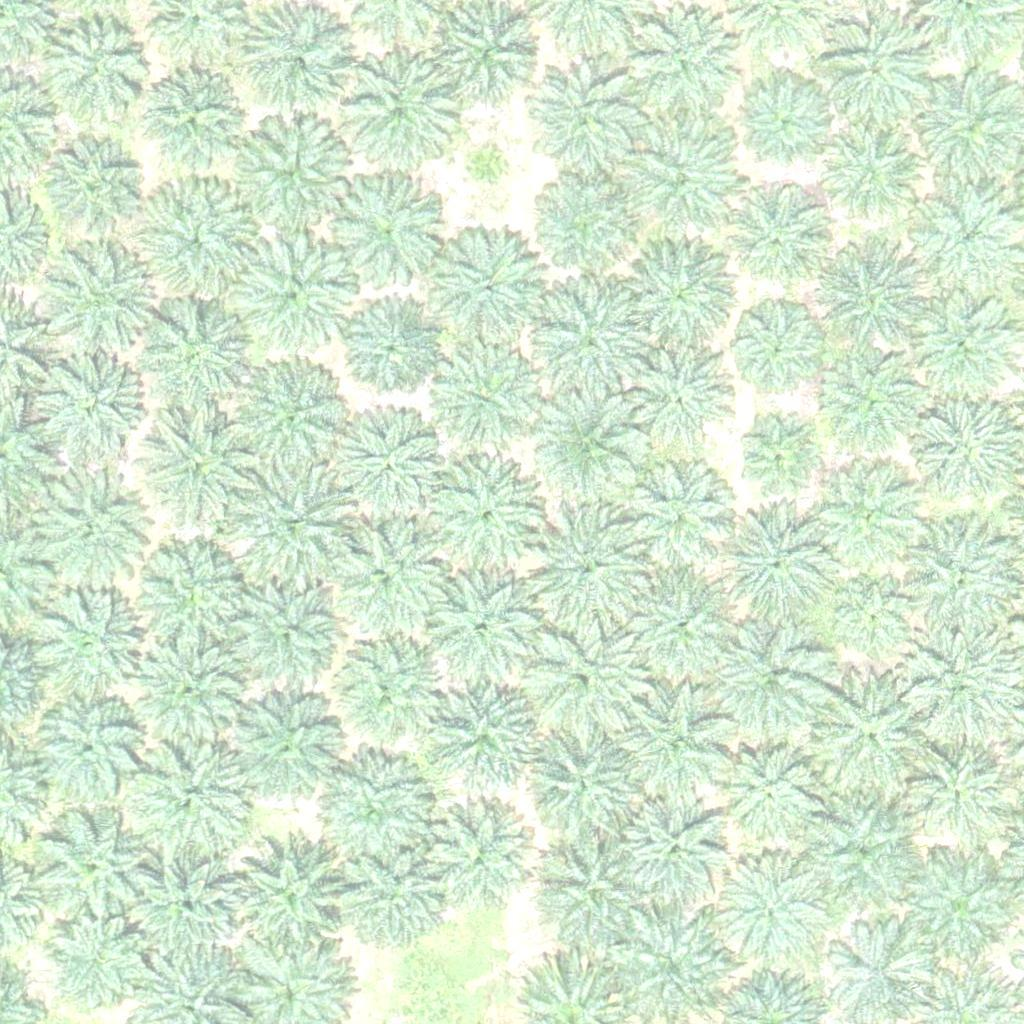Kelapa_Sawit: (530, 283, 655, 409), (229, 357, 354, 483), (136, 176, 261, 302), (135, 298, 260, 424), (135, 410, 260, 536), (22, 589, 147, 715), (25, 466, 150, 592), (27, 809, 152, 935), (132, 629, 257, 755), (131, 737, 256, 863), (313, 519, 438, 645), (226, 830, 351, 956), (523, 504, 648, 630), (519, 619, 644, 745), (815, 675, 940, 801), (227, 229, 352, 354), (229, 112, 354, 237), (132, 535, 257, 660), (318, 630, 443, 755), (307, 748, 432, 873), (906, 397, 1019, 511), (817, 240, 930, 354), (41, 908, 154, 1022), (624, 570, 737, 684), (621, 463, 734, 577), (819, 12, 932, 125), (532, 391, 645, 504), (426, 345, 539, 458), (429, 227, 542, 340), (431, 5, 544, 118), (37, 20, 150, 133), (227, 693, 340, 806), (228, 579, 341, 692), (241, 464, 354, 577), (333, 838, 446, 951), (620, 795, 733, 908), (617, 691, 730, 804), (907, 627, 1020, 740), (624, 2, 736, 116), (625, 120, 737, 234), (531, 66, 643, 180), (716, 511, 828, 625), (718, 625, 830, 739), (806, 804, 918, 918), (901, 855, 1013, 969), (911, 181, 1023, 294), (622, 235, 734, 348), (333, 168, 445, 281), (343, 414, 455, 527), (239, 7, 351, 120), (29, 350, 141, 463), (45, 244, 157, 357), (33, 697, 145, 810), (125, 853, 237, 966), (424, 801, 536, 914), (431, 676, 543, 789), (423, 573, 535, 686), (428, 463, 540, 576), (528, 733, 640, 846), (535, 831, 647, 944), (631, 349, 731, 450), (536, 173, 636, 274), (350, 63, 450, 164), (343, 300, 443, 401), (141, 72, 241, 173), (45, 138, 145, 239), (724, 860, 824, 961), (818, 473, 918, 574), (915, 292, 1015, 392), (821, 130, 921, 230), (823, 352, 923, 452), (717, 743, 817, 843), (910, 739, 1010, 839), (734, 308, 822, 396), (736, 203, 824, 291), (744, 83, 831, 171), (737, 423, 812, 499), (839, 582, 914, 658), (462, 144, 512, 194)
